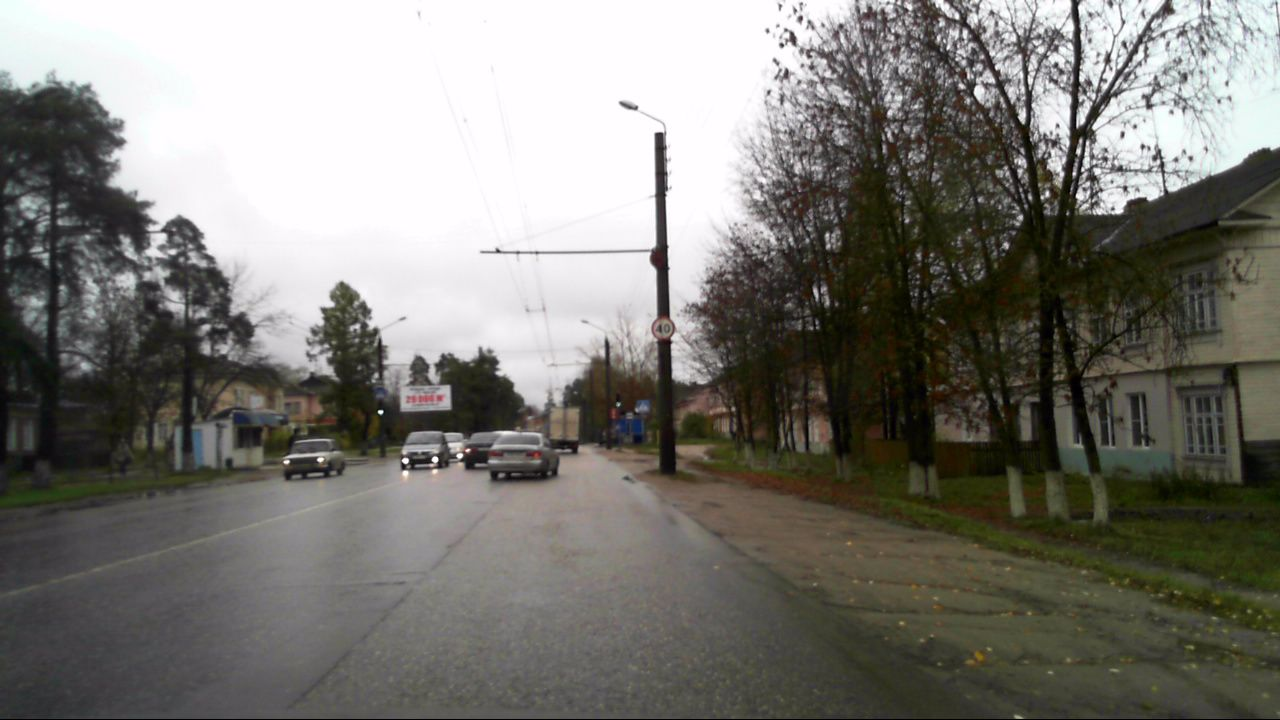speed_warning_40: (649, 316, 676, 341)
